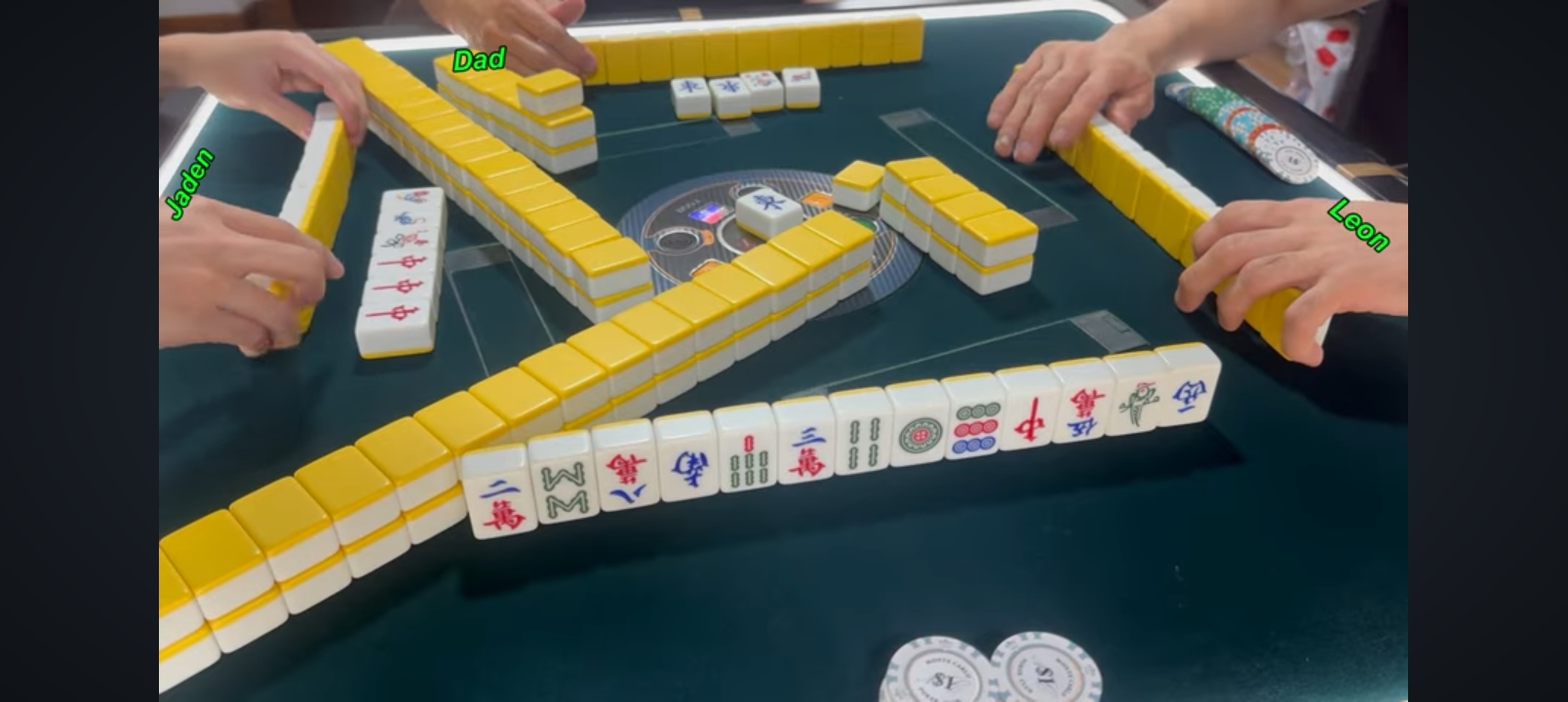TILE: (467, 469, 533, 541), (594, 445, 661, 514), (534, 458, 597, 524), (776, 422, 838, 483), (658, 436, 717, 500), (720, 428, 779, 491), (945, 400, 1007, 458), (1057, 382, 1115, 443), (837, 416, 894, 472), (1113, 375, 1168, 433), (894, 407, 948, 466), (1004, 392, 1058, 450), (1167, 370, 1215, 422)
